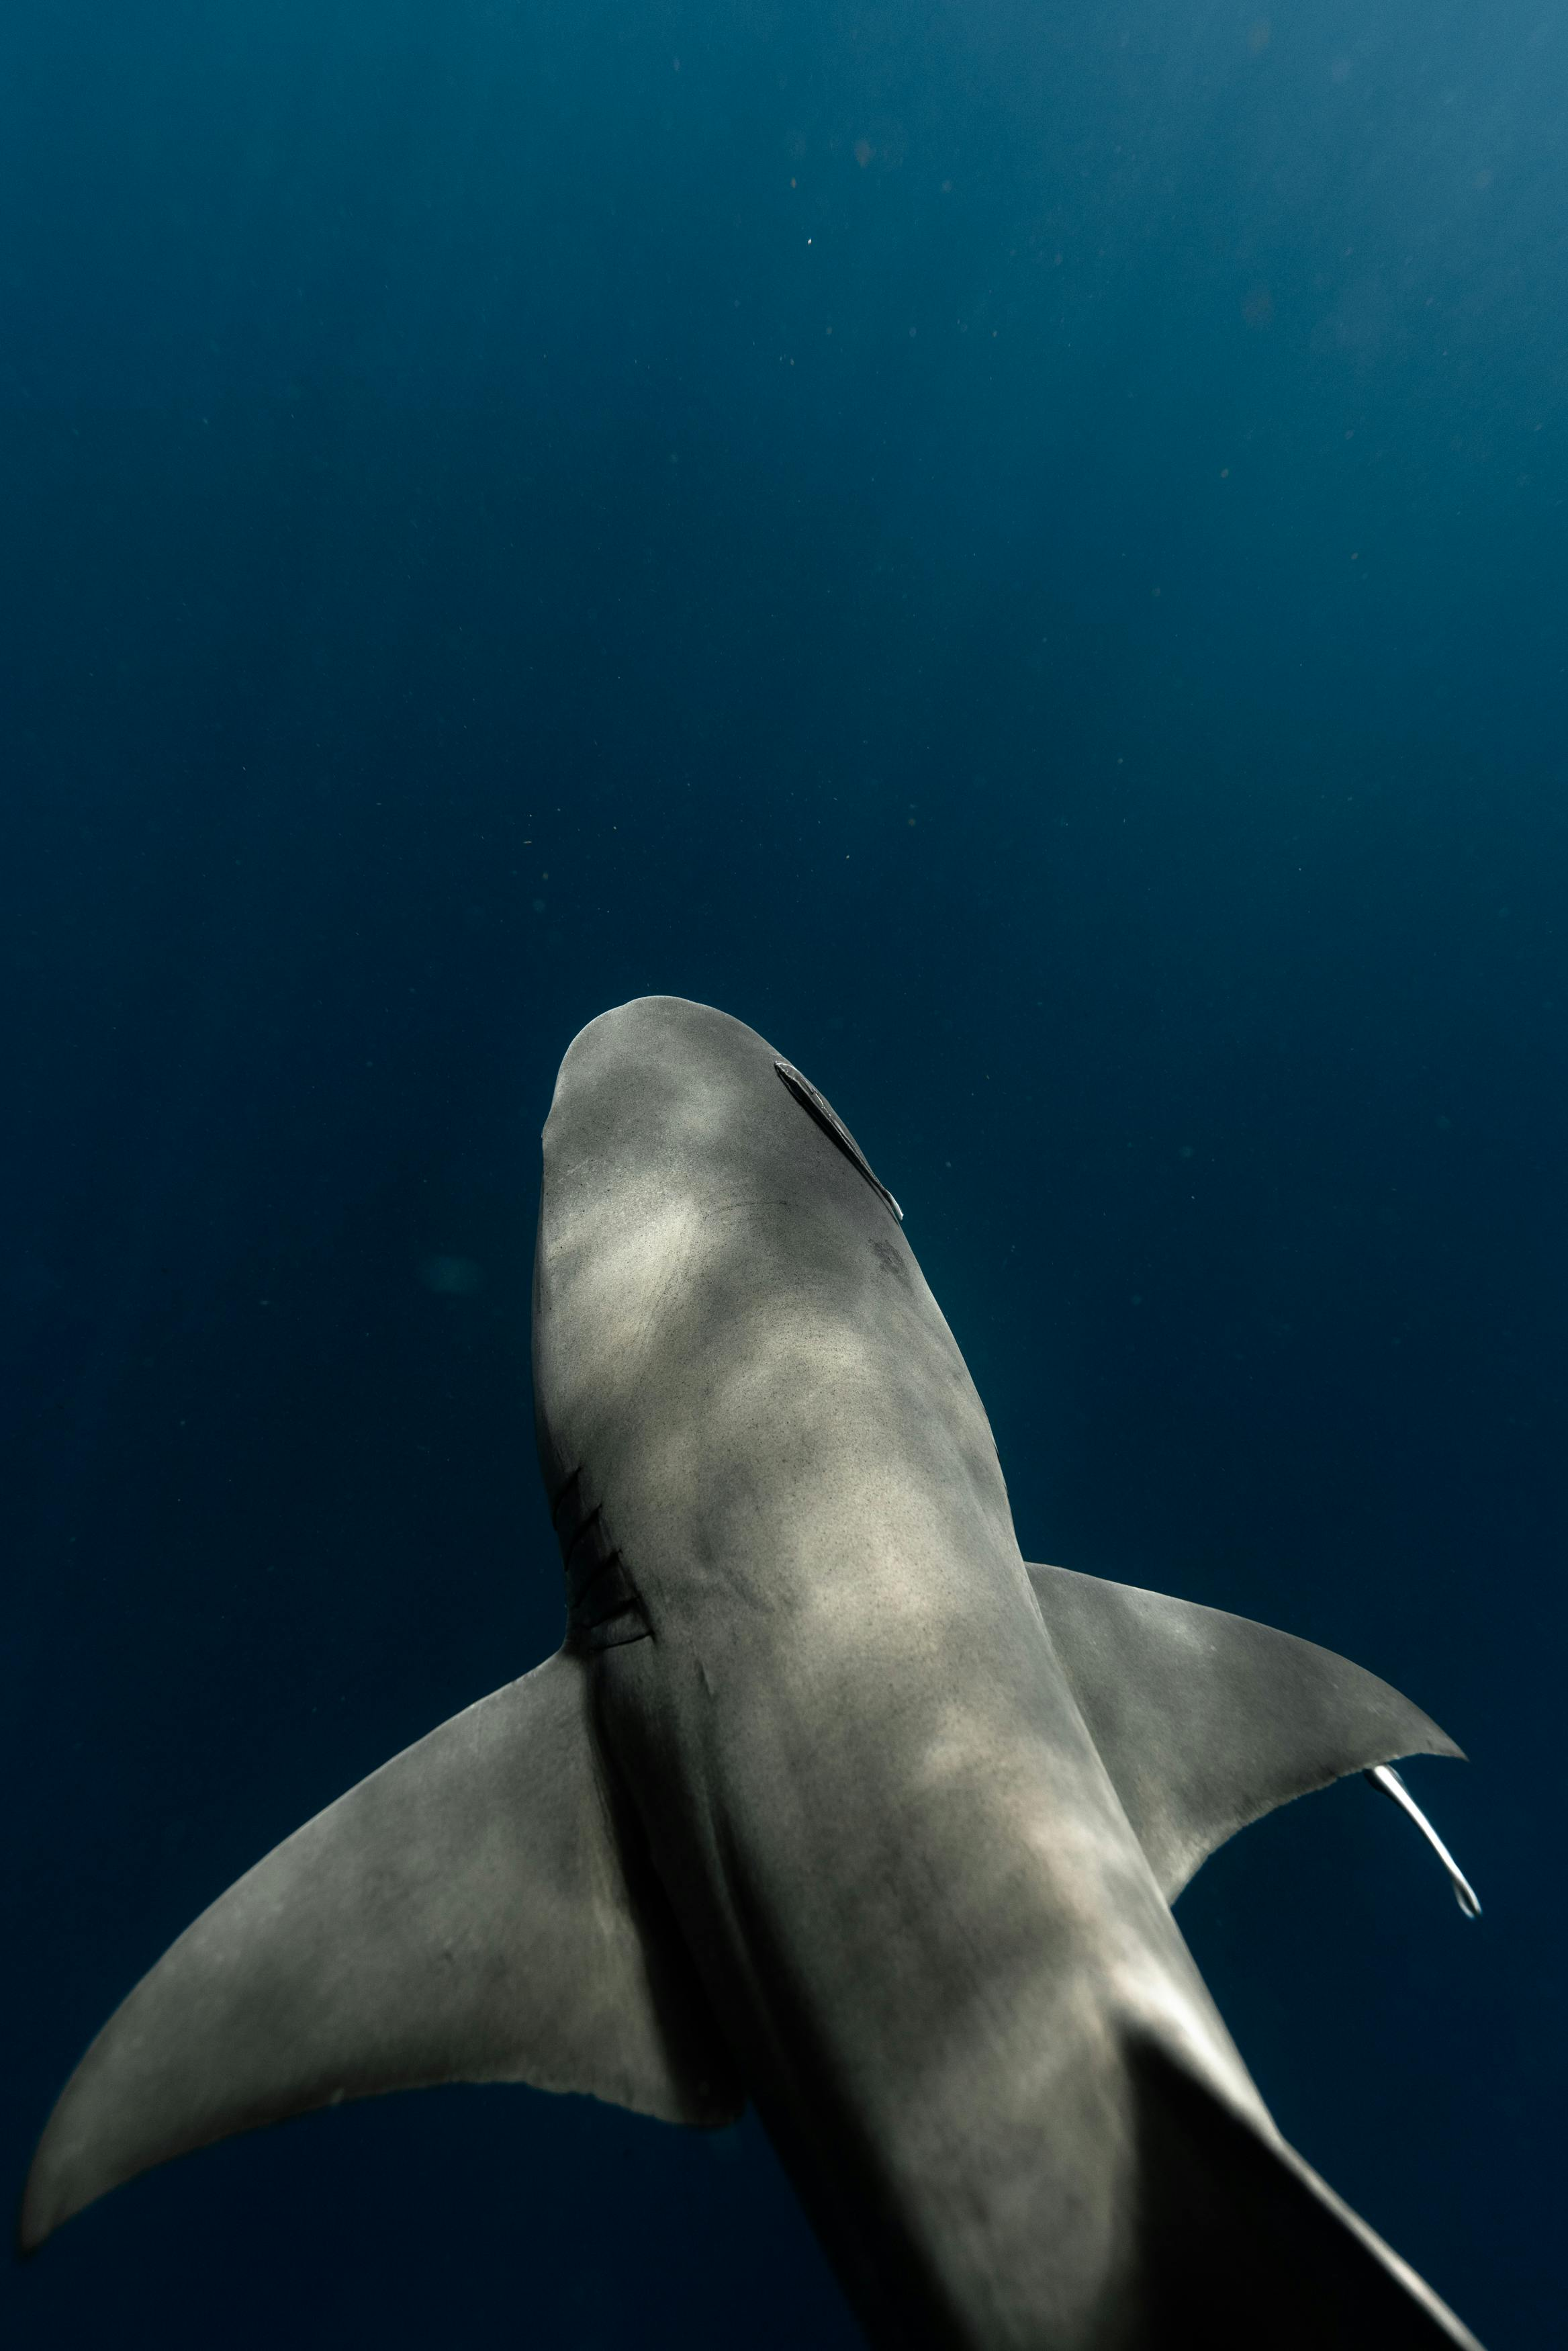fishLarge: (770, 1052, 912, 1208), (1363, 1761, 1479, 1927)
shark: (21, 991, 1486, 2351)
